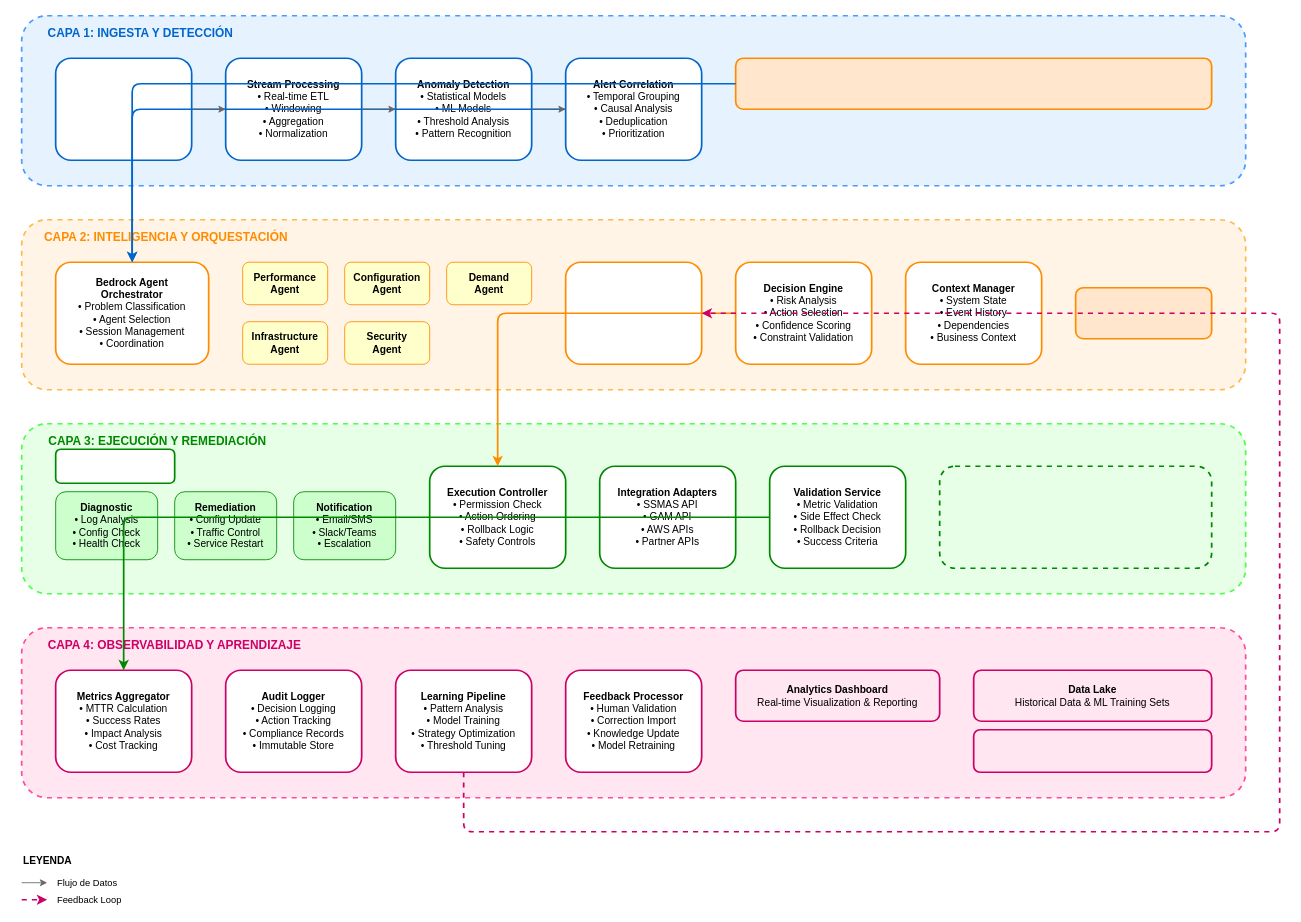
The diagram is 1301 pixels wide and 922 high, and some of its shapes have lost their labels. The centre of each missing label's shape, as x and y in pixels:
Action Library: the point at 114,466
Event Bus Event Routing & Distribution: the point at 973,83
External Systems SSMAS | GAM | Partners | AWS: the point at 1075,517
Knowledge Base • Runbooks • Historical Cases • Best Practices • Configurations: the point at 633,313
Metrics Collectors • SSMAS API • GAM API • Partner APIs • CDN Logs: the point at 123,109
ML Models Continuous Improvement: the point at 1092,750
Session Store In-Memory + DynamoDB: the point at 1143,312
